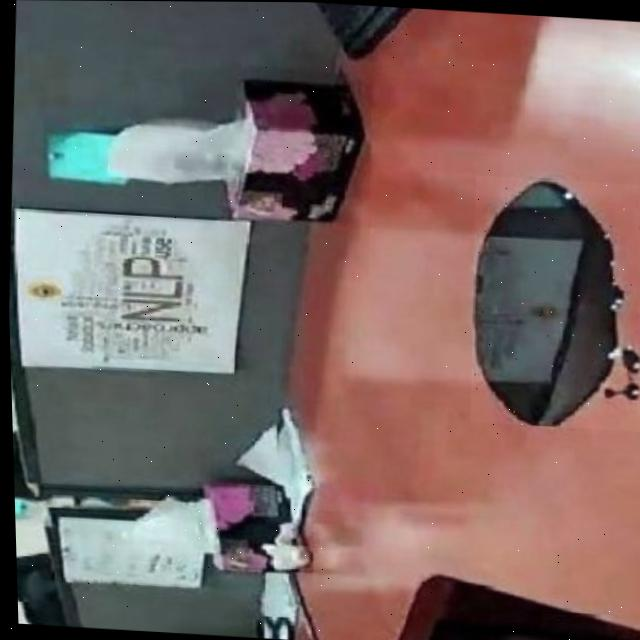spillage: (472, 178, 640, 424)
